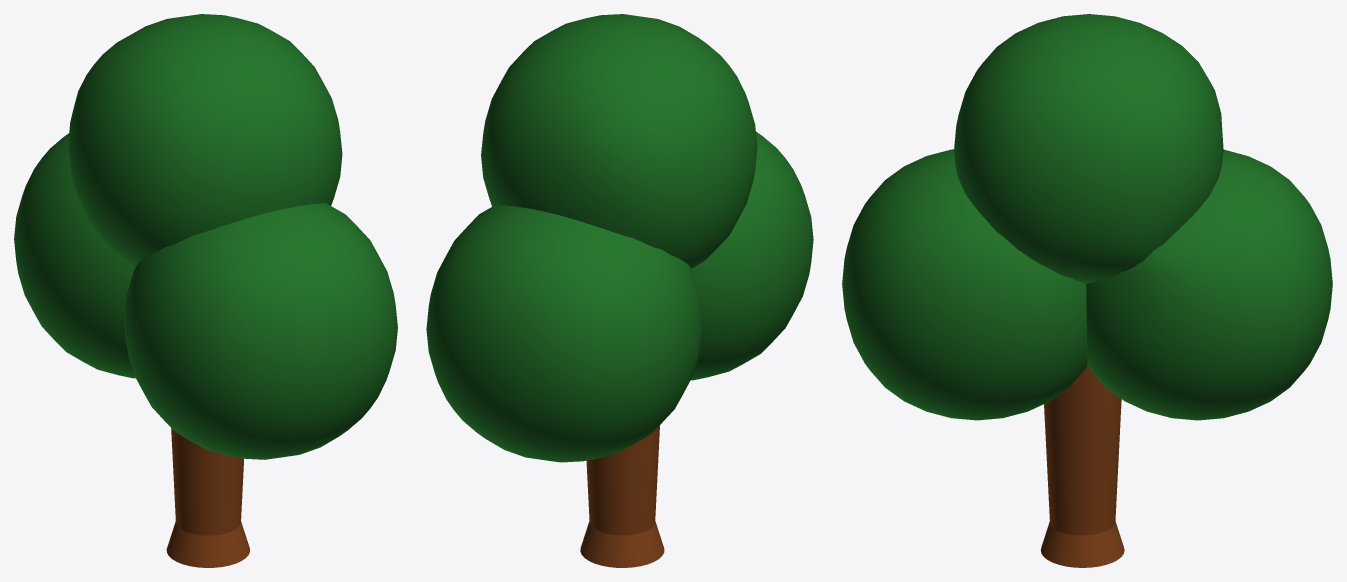
File: trees.fbx
3 views of the same model, side by side, from view 1: azimuth 30°, elevation 25°; view 2: azimuth 150°, elevation 25°; view 3: azimuth 270°, elevation 25° (orthographic).
Visible parts, largest first — view 1: Tree; view 2: Tree; view 3: Tree.
Boxes of the visible parts, x1,y1,x2,y2 form: Tree: (14,14,397,567); Tree: (426,14,813,567); Tree: (842,14,1332,567).
Bounding box in the file's own units: 168 × 358 × 305.
